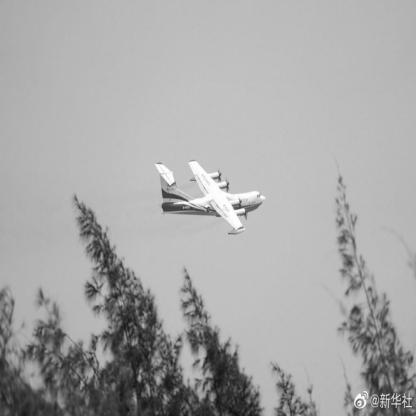AG600: (155, 160, 267, 236)
